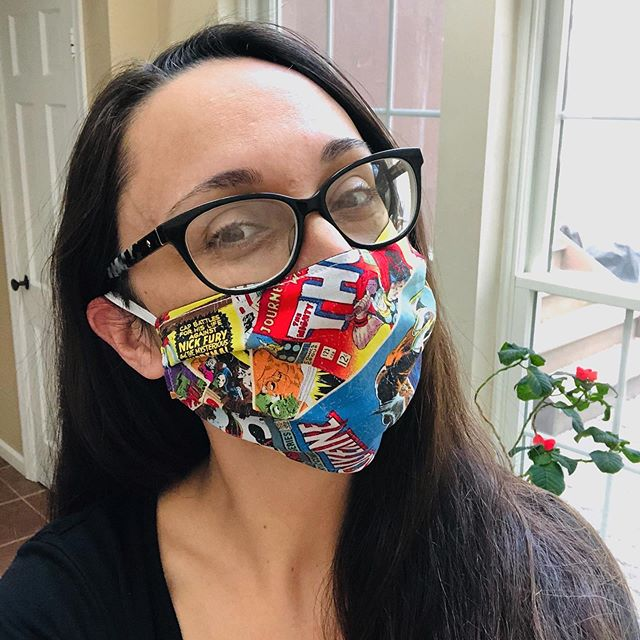homemade: (125, 238, 445, 470)
